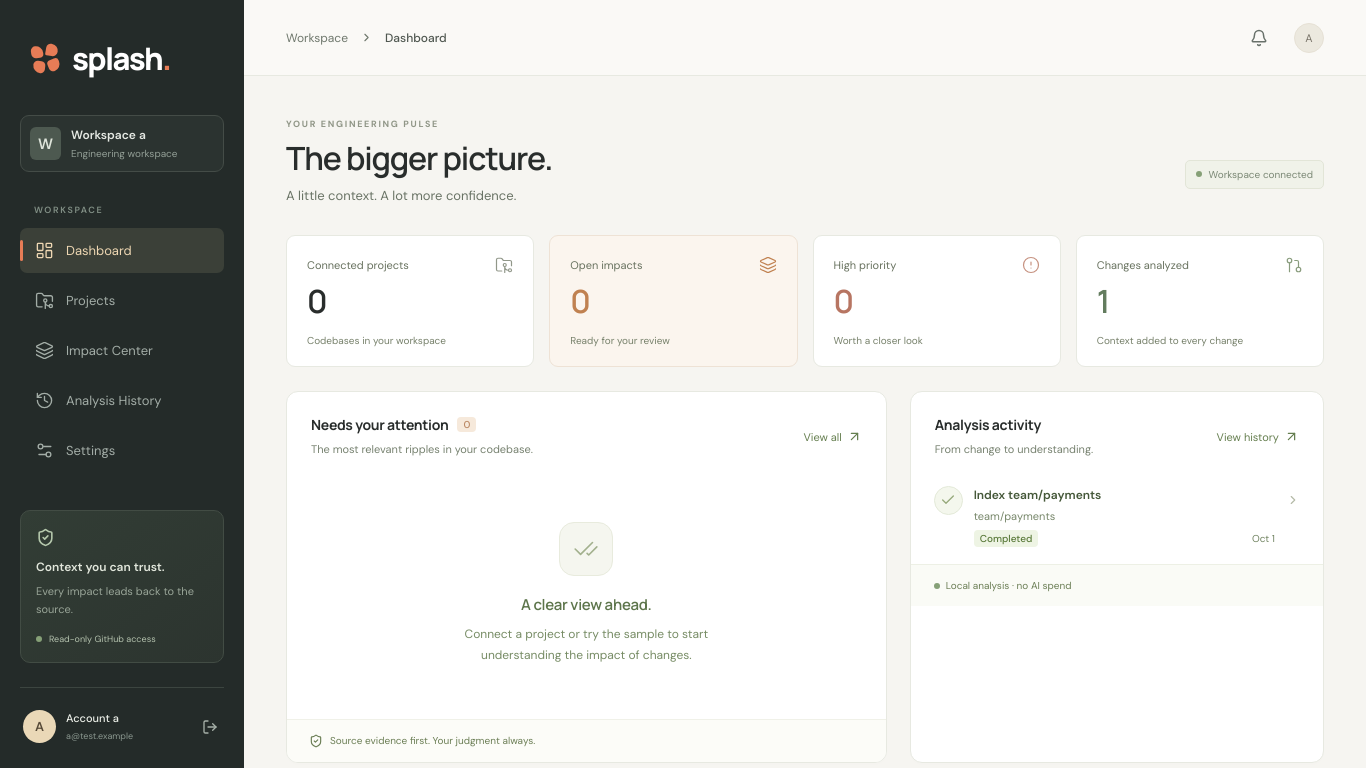
it: Run details › describes a completed indexing run without a synthetic PR or analysis conclusion
Step 1. Click the button "Index team/payments team/payments Completed Oct 1" → (1038, 495), box x1=934 y1=478 x2=1300 y2=564
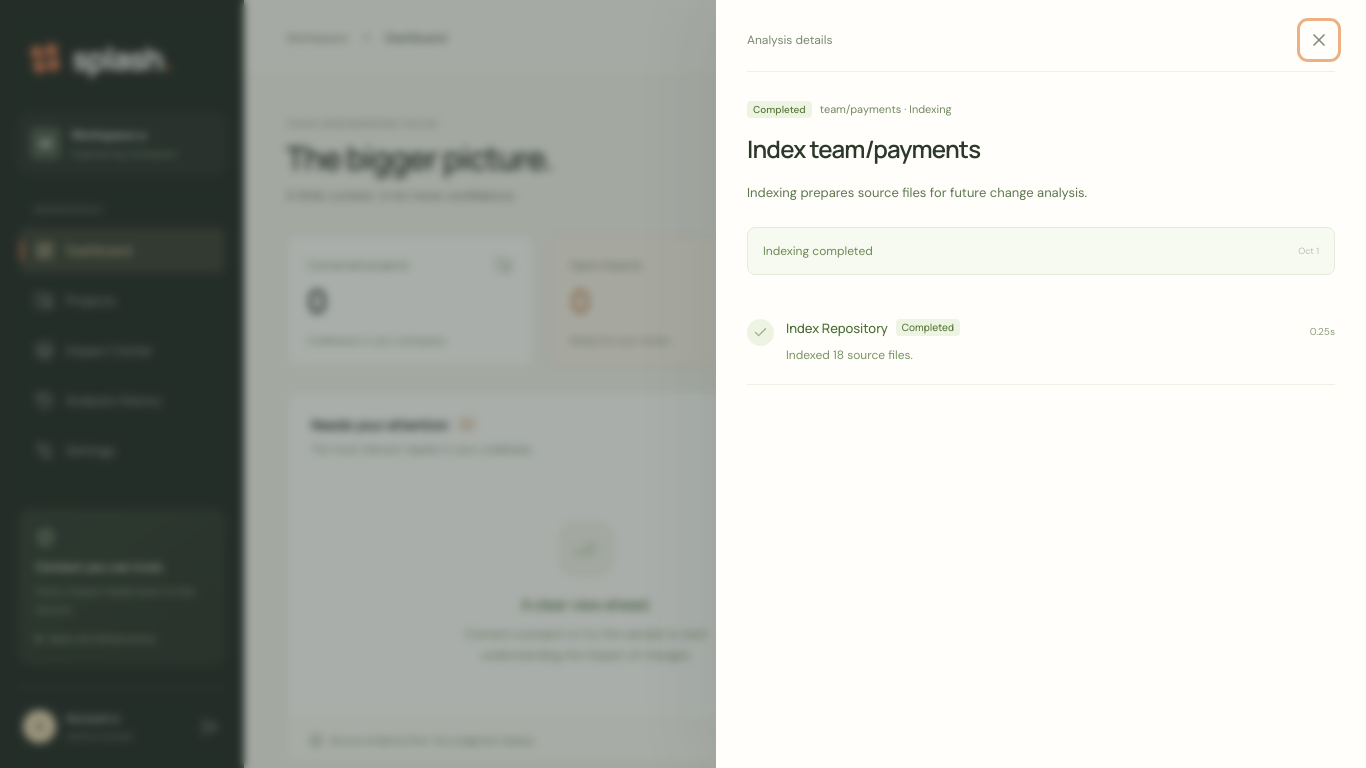
Check: the text "Indexed 18 source files." is shown, box x1=786 y1=347 x2=913 y2=363
